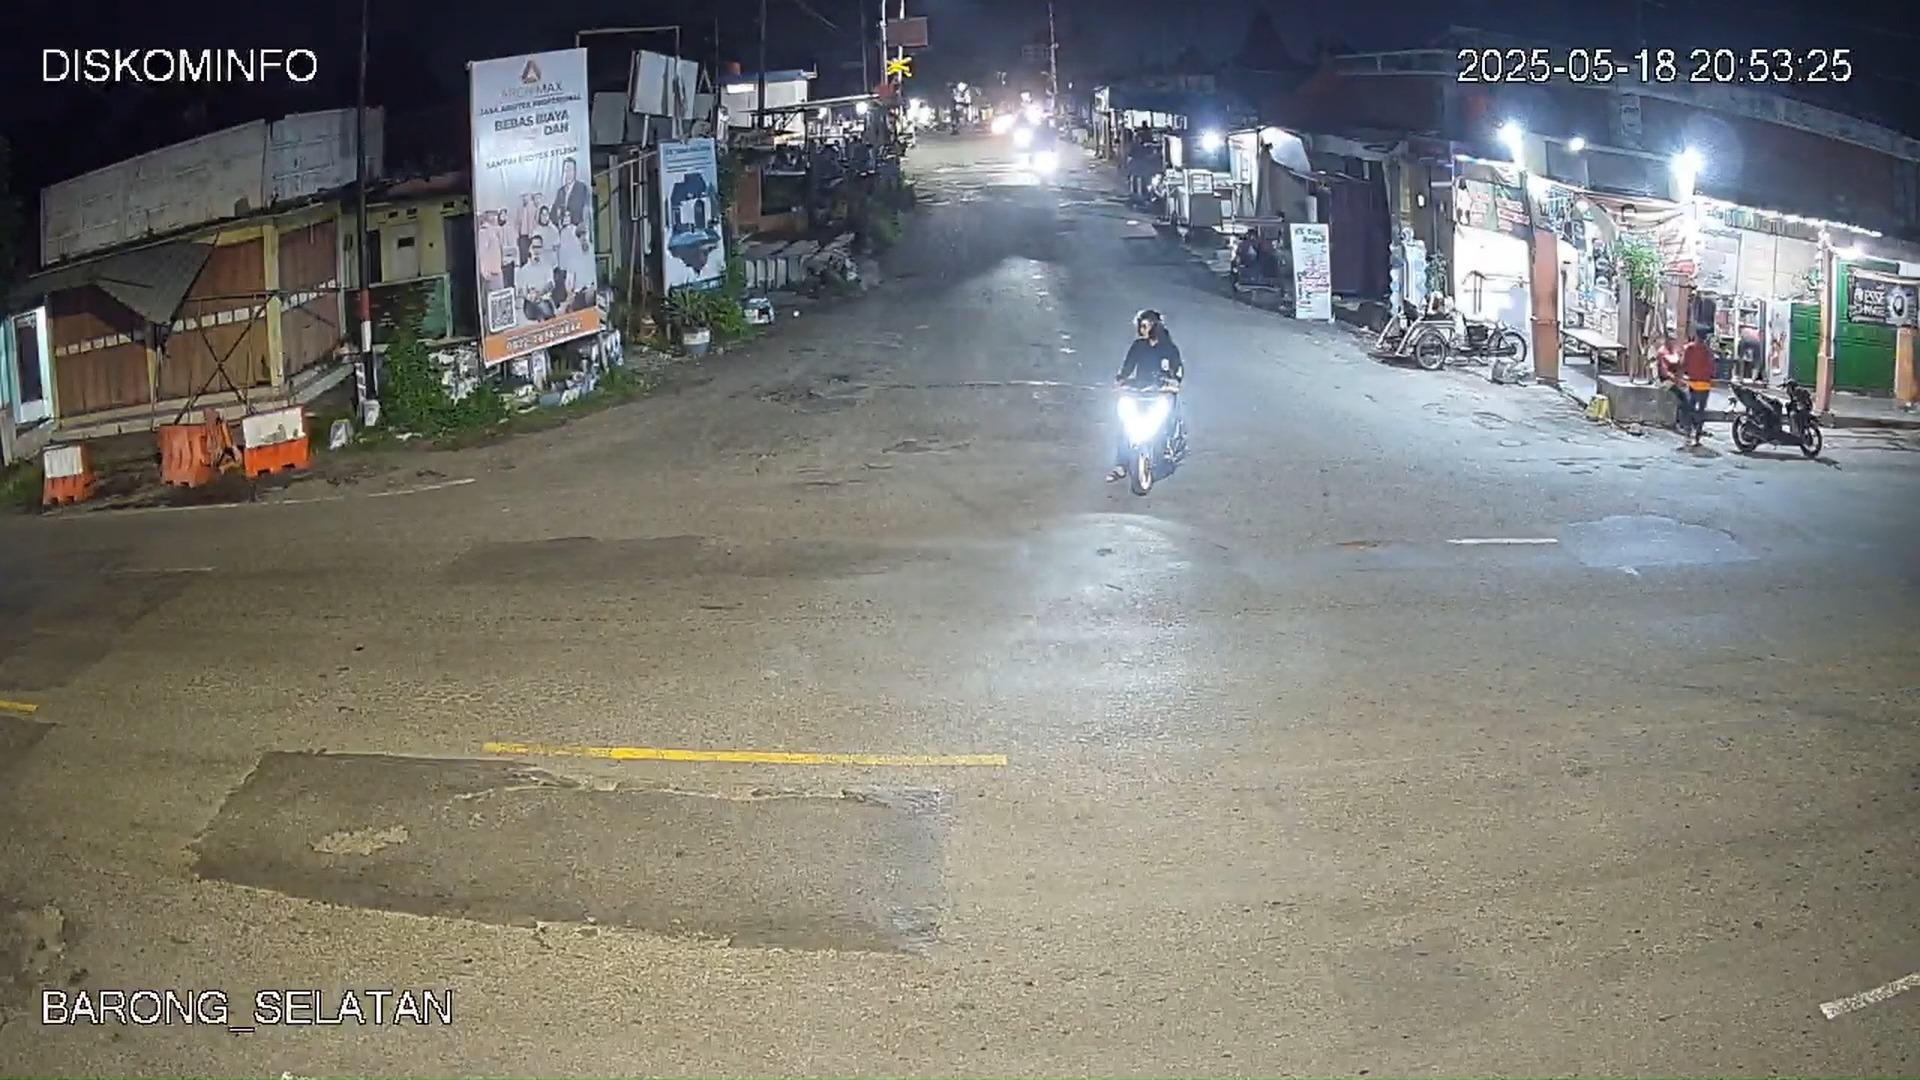Motor: (1106, 360, 1187, 495), (1725, 373, 1825, 458)
